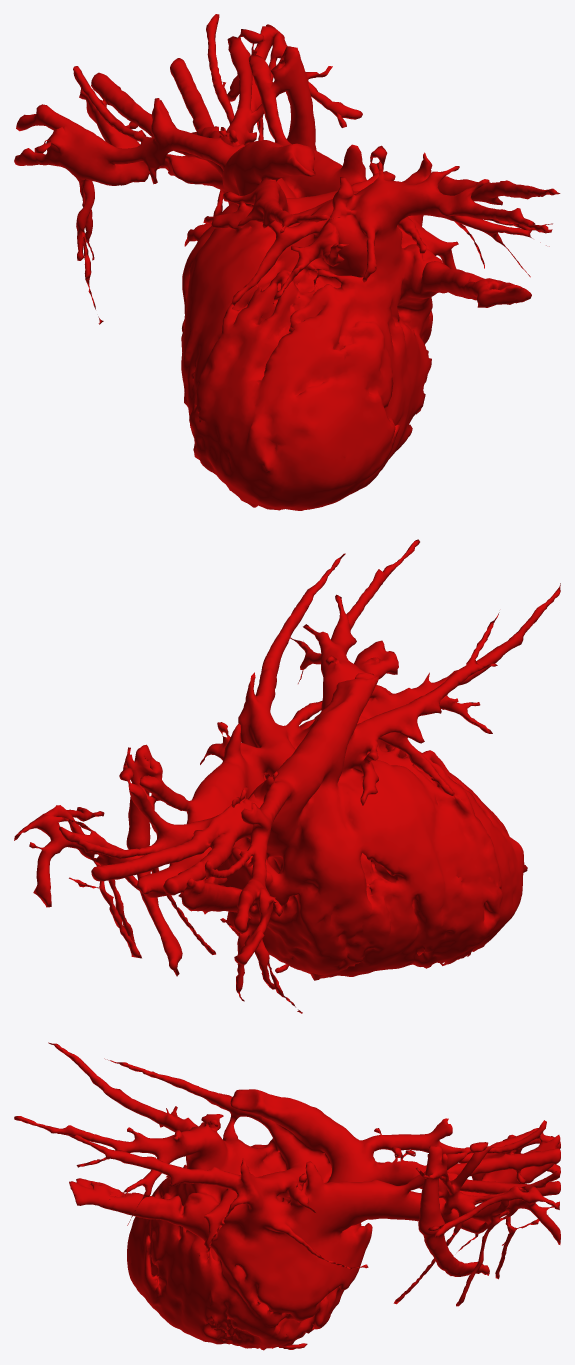
Rendered from Canine_Heart_Abnormal.glb.
3 renders of one model, top to bottom at view 1: azimuth 30°, elevation 25°; view 2: azimuth 150°, elevation 25°; view 3: azimuth 270°, elevation 25°, orthographic. The views are drawn at different scales.
Visible parts, largest first — view 1: abnormal_heart_clean_colored; view 2: abnormal_heart_clean_colored; view 3: abnormal_heart_clean_colored.
Part boxes in pixels (x1,y1,x2,y2): abnormal_heart_clean_colored: [14, 14, 560, 510]; abnormal_heart_clean_colored: [14, 539, 560, 1013]; abnormal_heart_clean_colored: [14, 1042, 560, 1350].
Bounding box in the file's own units: 70.02 × 73.16 × 139.
